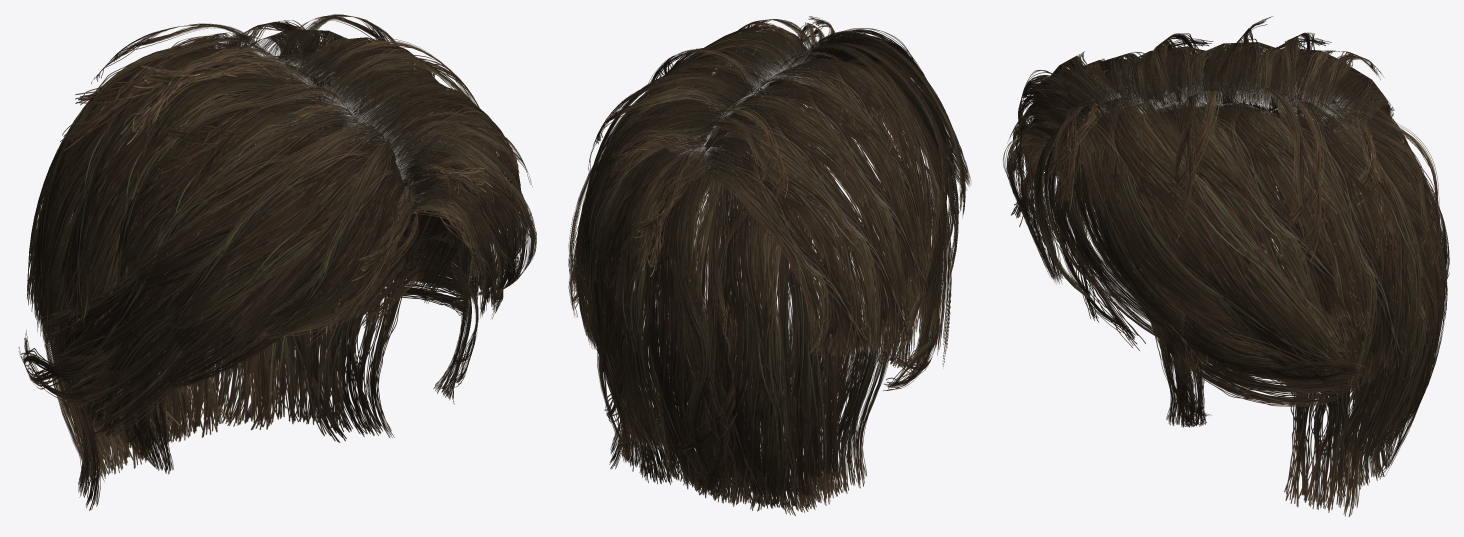
The model's file is malehair-transformed.glb.
3 views of the same model, side by side, from view 1: azimuth 30°, elevation 25°; view 2: azimuth 150°, elevation 25°; view 3: azimuth 270°, elevation 25° (orthographic). The views are drawn at different scales.
Visible parts, largest first — view 1: geo_hair-card_3.006; view 2: geo_hair-card_3.006; view 3: geo_hair-card_3.006.
Boxes of the visible parts, box(x1,y1,x2,y2) form: geo_hair-card_3.006: box(18, 14, 536, 510); geo_hair-card_3.006: box(568, 16, 971, 515); geo_hair-card_3.006: box(1003, 16, 1449, 516).
Bounding box in the file's own units: 2.14 × 2.43 × 2.31.
Materials: 1 (1 with a texture image).
